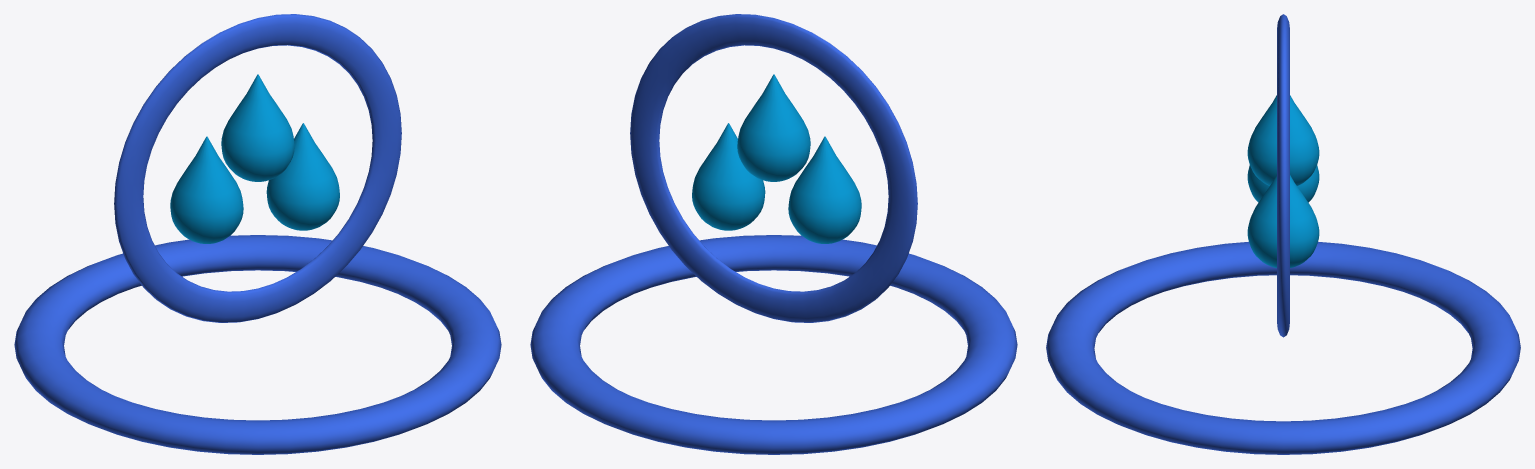
The model's file is gota.fbx.
3 views of the same model, side by side, from view 1: azimuth 30°, elevation 25°; view 2: azimuth 150°, elevation 25°; view 3: azimuth 270°, elevation 25° (orthographic). The views are drawn at different scales.
Parts seen in each view (by area): view 1: Rosca.010, pSphere4; view 2: Rosca.010, pSphere4; view 3: Rosca.010, pSphere4.
Boxes of the visible parts, x1,y1,x2,y2 form: Rosca.010: (14, 14, 501, 454); pSphere4: (170, 74, 339, 243); Rosca.010: (530, 14, 1017, 454); pSphere4: (692, 74, 861, 243); Rosca.010: (1046, 14, 1520, 454); pSphere4: (1247, 95, 1319, 267).
Size of the model in its own units: 6.1 by 4.71 by 6.1.
